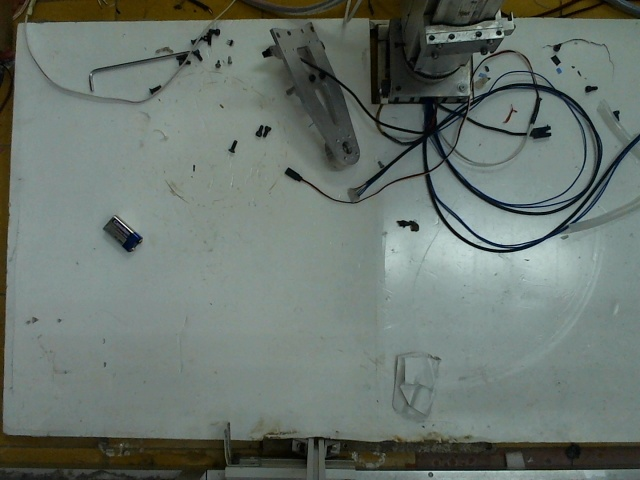battery: (100, 213, 144, 250)
